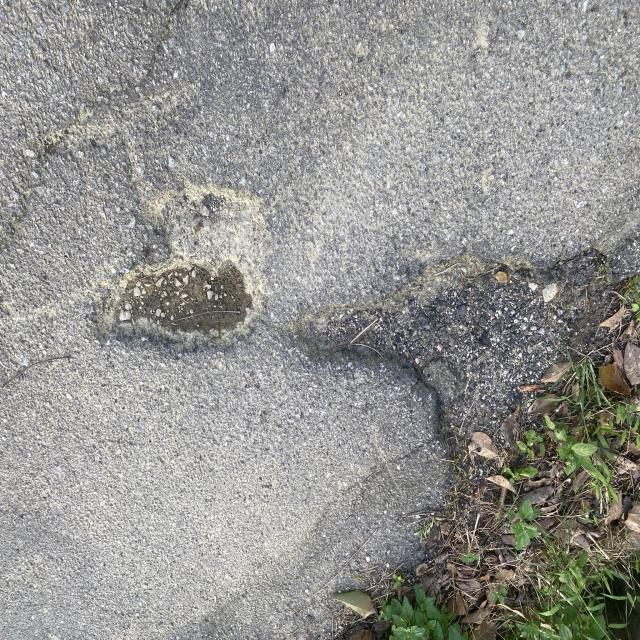pothole: (324, 225, 634, 463), (49, 192, 278, 373)
